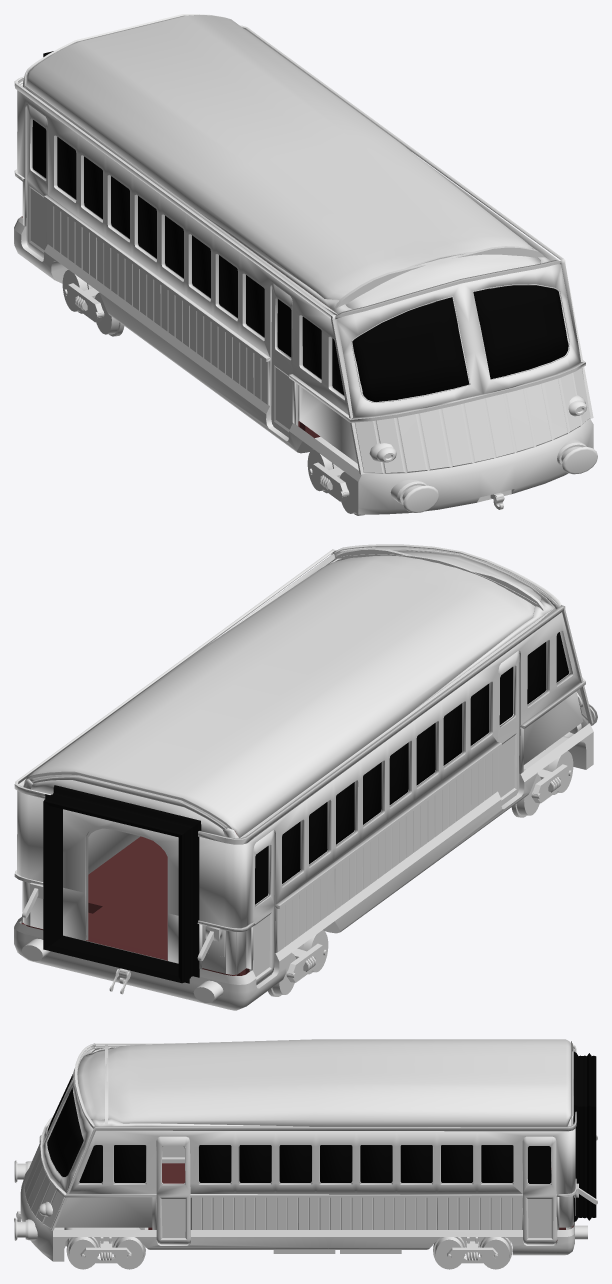
The model's file is vagoneNormale.fbx.
The picture shows the model from 3 angles, top to bottom: view 1: azimuth 30°, elevation 25°; view 2: azimuth 150°, elevation 25°; view 3: azimuth 270°, elevation 25°; orthographic projection. The views are drawn at different scales.
Parts seen in each view (by area): view 1: vagoneNormale_merged, vagoneNormale_Tetto; view 2: vagoneNormale_merged, vagoneNormale_Tetto; view 3: vagoneNormale_merged, vagoneNormale_Tetto.
Part boxes in pixels (x1,y1,x2,y2): vagoneNormale_merged: (14,14,597,515); vagoneNormale_Tetto: (26,14,540,309); vagoneNormale_merged: (14,544,597,1010); vagoneNormale_Tetto: (29,551,541,837); vagoneNormale_merged: (14,1041,597,1269); vagoneNormale_Tetto: (77,1039,572,1126).
Bounding box in the file's own units: 449 × 410 × 1288.
